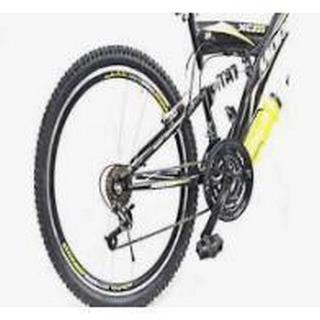Bike: (28, 13, 292, 307)
